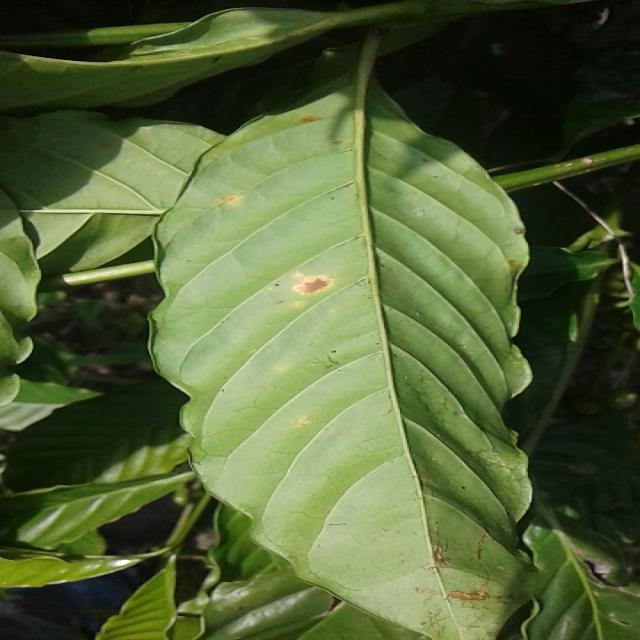Enfermedad-Roya: (148, 32, 559, 640)
